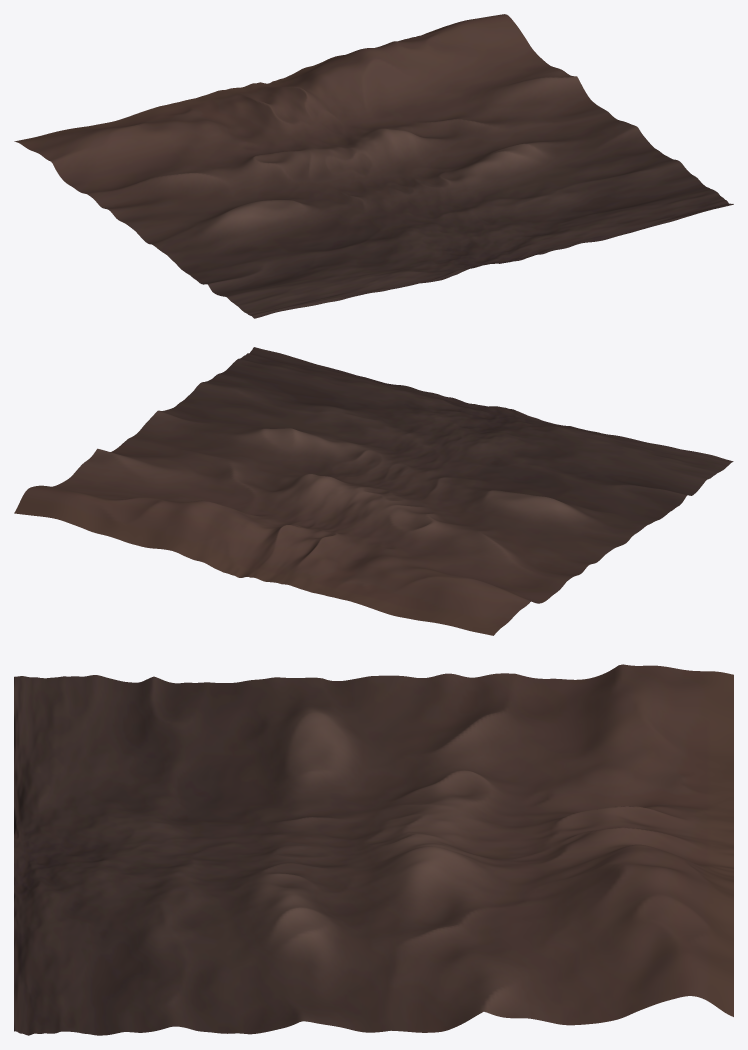
Rendered from idlex-terrain.glb.
3 views of the same model, one above another, from view 1: azimuth 30°, elevation 25°; view 2: azimuth 150°, elevation 25°; view 3: azimuth 270°, elevation 25° (orthographic). The views are drawn at different scales.
Parts seen in each view (by area): view 1: geometry_0; view 2: geometry_0; view 3: geometry_0.
Part boxes in pixels (left/top/right/bottom): geometry_0: left=14, top=14, right=733, bottom=318; geometry_0: left=14, top=347, right=733, bottom=635; geometry_0: left=14, top=664, right=733, bottom=1035.
Bounding box in the file's own units: 170 × 13.42 × 148.
